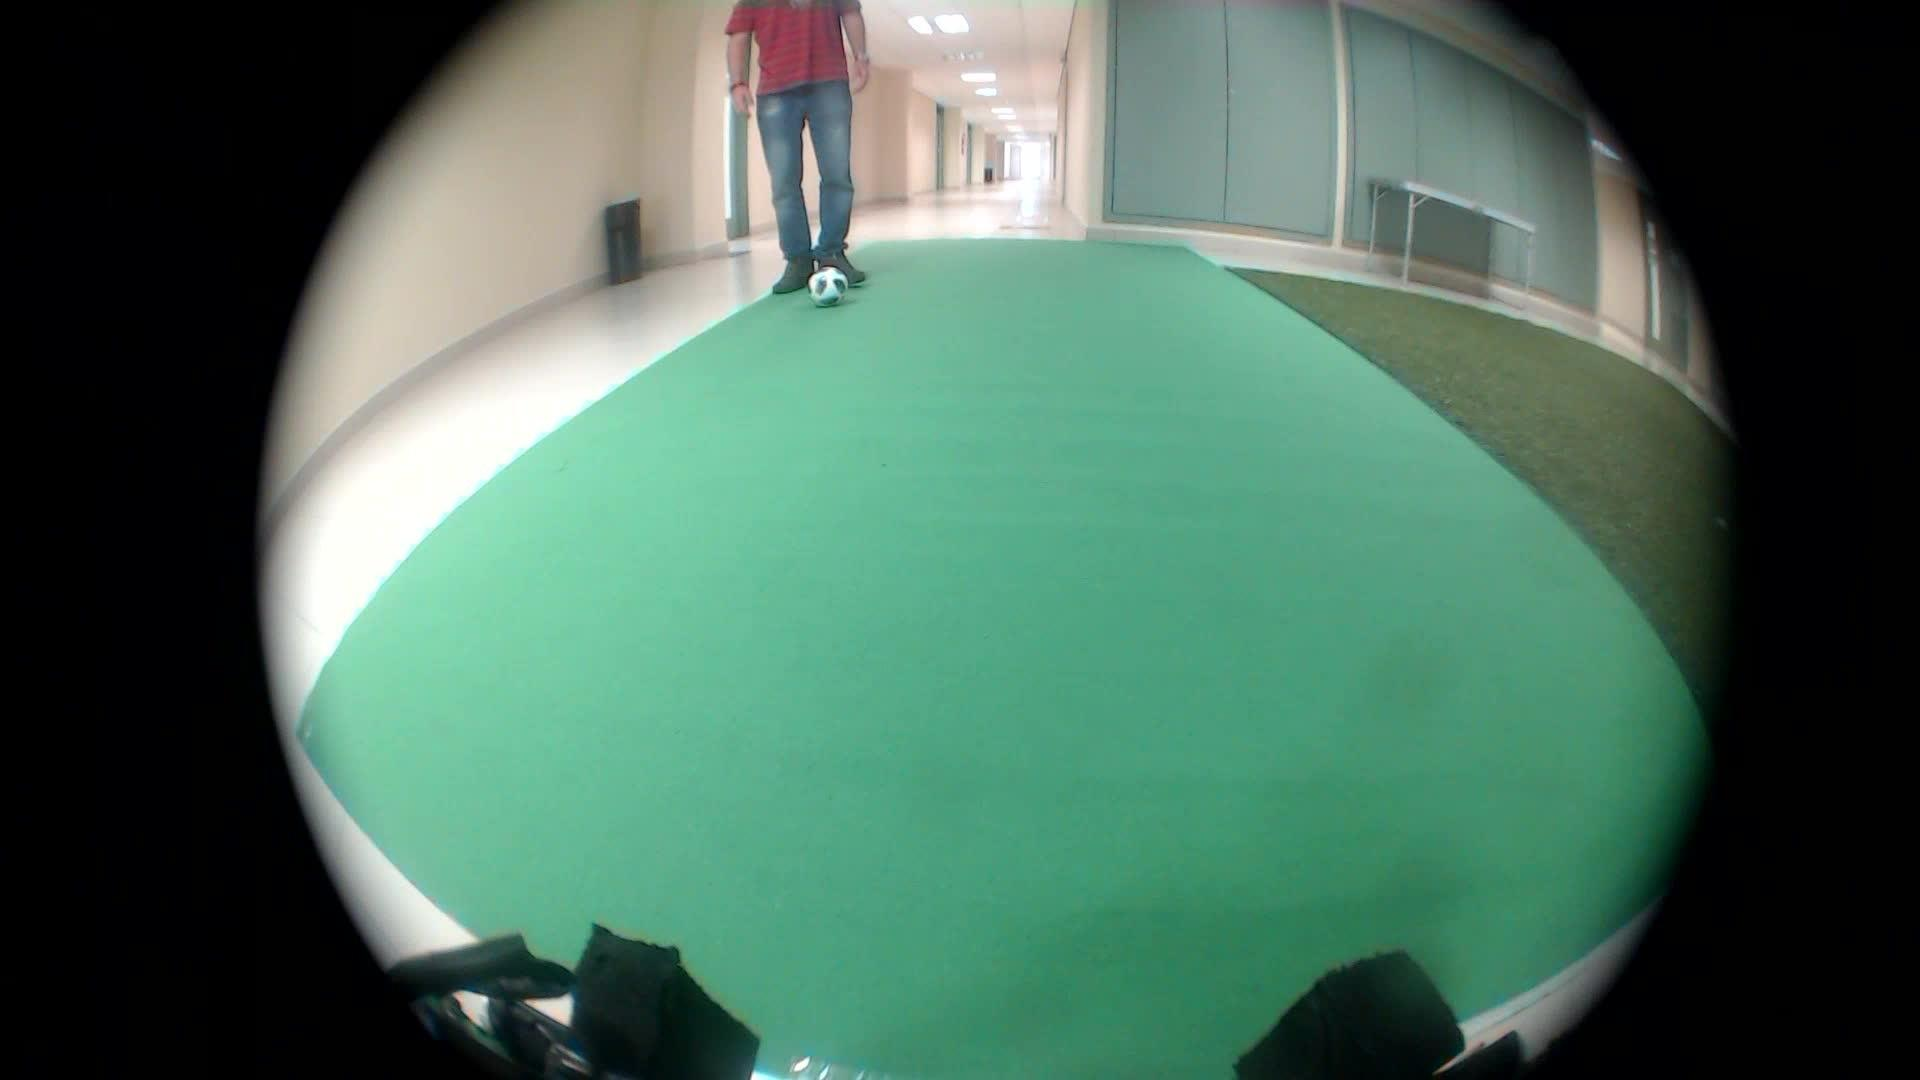ball: (804, 261, 851, 310)
